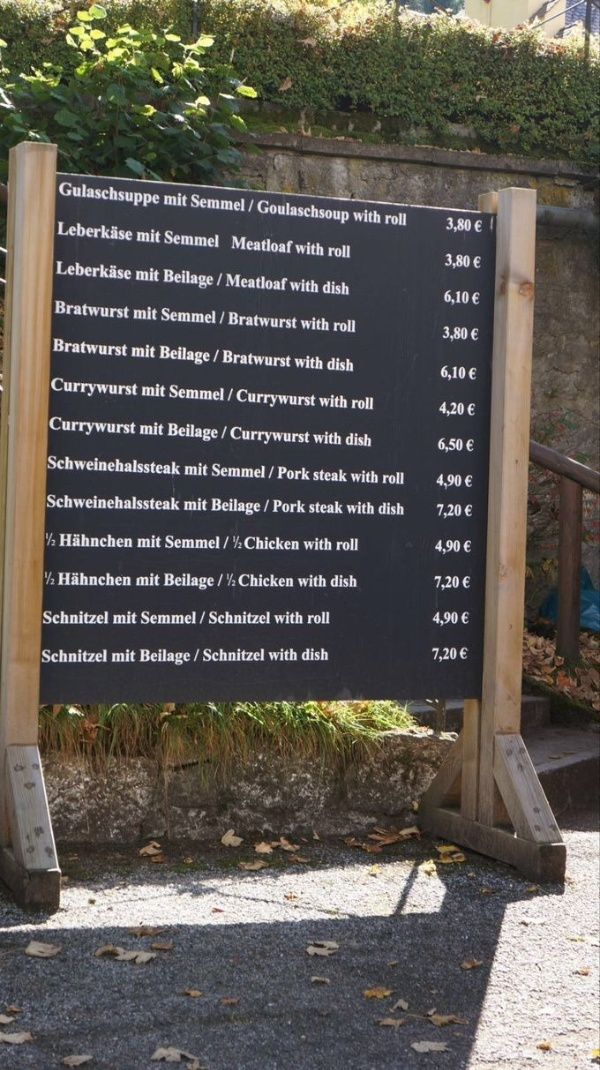text: (65, 183, 80, 209), (81, 183, 96, 209), (97, 183, 112, 209), (113, 183, 128, 209), (129, 183, 144, 209), (145, 183, 160, 209), (257, 200, 272, 225), (273, 200, 288, 225), (289, 200, 304, 225), (305, 200, 320, 225), (321, 200, 336, 225), (49, 416, 64, 439), (65, 416, 80, 439), (81, 416, 96, 439), (97, 416, 112, 439), (113, 416, 128, 439), (65, 378, 80, 400), (81, 378, 96, 400), (97, 378, 112, 400), (113, 378, 128, 400), (241, 427, 256, 449), (257, 427, 272, 449), (273, 427, 288, 449), (289, 427, 304, 449), (241, 390, 256, 412), (257, 390, 272, 412), (273, 390, 288, 412), (289, 390, 304, 412), (49, 455, 64, 476), (65, 455, 80, 476), (81, 455, 96, 476), (97, 455, 112, 476), (113, 455, 128, 476), (129, 455, 144, 476), (145, 455, 160, 476), (161, 455, 176, 476), (161, 346, 176, 367), (177, 346, 192, 367), (193, 346, 208, 367), (177, 270, 192, 291), (193, 270, 208, 291), (113, 300, 129, 319), (273, 273, 289, 292), (433, 609, 448, 629), (65, 338, 80, 358), (81, 338, 96, 358), (97, 338, 112, 358), (113, 338, 128, 358), (241, 235, 256, 255), (257, 235, 272, 255), (273, 235, 288, 255), (65, 222, 80, 242), (81, 222, 96, 242), (97, 222, 112, 242), (113, 222, 128, 242), (337, 200, 349, 225), (65, 300, 80, 319), (81, 300, 96, 319), (97, 300, 112, 319), (177, 423, 192, 442), (193, 423, 208, 442), (241, 273, 256, 292), (257, 273, 272, 292), (449, 402, 465, 419), (449, 217, 464, 235), (177, 573, 192, 591), (193, 573, 208, 591), (225, 499, 240, 517), (241, 499, 256, 517), (241, 312, 256, 330), (257, 312, 272, 330), (273, 312, 288, 330), (65, 262, 80, 280), (81, 262, 96, 280), (97, 262, 112, 280), (113, 262, 128, 280), (449, 436, 463, 455), (226, 273, 240, 292), (52, 378, 64, 400), (449, 365, 464, 382), (449, 328, 464, 345), (449, 290, 464, 307), (145, 649, 160, 666), (161, 649, 176, 666), (177, 385, 192, 402), (193, 385, 208, 402), (209, 385, 224, 402), (177, 307, 192, 324), (193, 307, 208, 324), (225, 351, 240, 368), (241, 351, 256, 368), (257, 351, 272, 368), (273, 351, 288, 368), (145, 228, 160, 245), (177, 231, 192, 248), (193, 231, 208, 248), (193, 195, 208, 212), (209, 195, 224, 212), (225, 195, 240, 212), (164, 270, 176, 291), (305, 390, 316, 412), (436, 472, 448, 492), (449, 472, 461, 492), (449, 254, 464, 270), (49, 494, 64, 510), (65, 494, 80, 510), (81, 494, 96, 510), (97, 494, 112, 510), (113, 494, 128, 510), (129, 494, 144, 510), (145, 494, 160, 510), (161, 494, 176, 510), (193, 462, 208, 478), (289, 466, 304, 482), (305, 241, 320, 257), (162, 307, 176, 324), (433, 647, 448, 662), (273, 649, 288, 664), (209, 649, 224, 664), (225, 649, 240, 664), (241, 649, 256, 664), (49, 649, 64, 664), (65, 649, 80, 664), (81, 649, 96, 664), (65, 534, 80, 549), (81, 534, 96, 549), (97, 534, 112, 549), (113, 534, 128, 549), (113, 610, 128, 625), (177, 535, 192, 550), (193, 535, 208, 550), (257, 535, 272, 550), (273, 535, 288, 550), (305, 537, 320, 552), (225, 464, 240, 479), (241, 464, 256, 479), (305, 354, 320, 369), (145, 268, 160, 283), (466, 503, 480, 519), (435, 539, 448, 556), (177, 649, 190, 666), (53, 338, 64, 358), (164, 573, 176, 591), (212, 499, 224, 517), (466, 439, 480, 454), (466, 475, 480, 490), (305, 648, 320, 662), (113, 649, 128, 663), (49, 611, 64, 625), (65, 611, 80, 625), (81, 611, 96, 625), (145, 611, 160, 625), (161, 611, 176, 625), (177, 611, 192, 625), (145, 573, 160, 587), (241, 574, 256, 588), (257, 574, 272, 588), (273, 574, 288, 588), (225, 611, 240, 625), (241, 611, 256, 625), (385, 502, 400, 516), (321, 501, 336, 515), (273, 500, 288, 514), (289, 500, 304, 514), (145, 423, 160, 437), (145, 383, 160, 397), (385, 472, 400, 486), (353, 433, 368, 447), (321, 432, 336, 446), (337, 358, 352, 372), (337, 319, 352, 333), (305, 317, 320, 331), (386, 212, 400, 227), (437, 436, 448, 455), (435, 576, 448, 592), (231, 427, 240, 449), (229, 312, 240, 330), (210, 611, 224, 625), (257, 611, 271, 625), (274, 612, 288, 626), (289, 612, 303, 626), (290, 278, 304, 292), (305, 278, 319, 292), (337, 246, 351, 260), (65, 573, 80, 586), (81, 573, 96, 586), (97, 573, 112, 586), (113, 573, 128, 586), (305, 575, 320, 588), (337, 575, 352, 588), (145, 535, 160, 548), (337, 539, 352, 552), (353, 502, 368, 515), (193, 498, 208, 511), (211, 464, 224, 479), (321, 469, 336, 482), (353, 471, 368, 484), (353, 397, 368, 410), (321, 395, 336, 408), (353, 210, 368, 223), (449, 539, 460, 556), (467, 403, 480, 417), (227, 573, 240, 587), (145, 307, 158, 321), (449, 609, 458, 629), (436, 504, 448, 519), (449, 504, 461, 519), (196, 648, 208, 663), (231, 235, 240, 255), (129, 378, 137, 400), (165, 192, 176, 208), (177, 192, 188, 208), (55, 300, 64, 319), (167, 423, 176, 442), (209, 423, 218, 442), (166, 231, 176, 248), (209, 231, 219, 248), (323, 281, 336, 294), (369, 210, 382, 223), (97, 611, 109, 625), (132, 345, 144, 359), (469, 367, 480, 382), (97, 649, 108, 664), (209, 535, 220, 550), (245, 535, 256, 550), (289, 535, 300, 550), (321, 537, 332, 552), (289, 312, 298, 330), (129, 416, 136, 439), (449, 576, 459, 592), (278, 466, 288, 482), (294, 241, 304, 257), (308, 612, 320, 625), (337, 281, 349, 294), (145, 345, 156, 359), (439, 402, 448, 419), (166, 535, 176, 550), (230, 387, 240, 402), (294, 354, 304, 369), (337, 395, 348, 408), (310, 501, 320, 515), (134, 307, 144, 321), (289, 649, 298, 664), (337, 469, 347, 482), (184, 462, 192, 478), (465, 217, 472, 235), (471, 328, 480, 342), (321, 317, 330, 331), (57, 262, 64, 280), (449, 647, 457, 662), (129, 610, 137, 625), (257, 464, 265, 479), (136, 268, 144, 283), (58, 222, 64, 242), (441, 365, 448, 382), (209, 307, 216, 324), (137, 228, 144, 245), (321, 612, 330, 625), (369, 471, 378, 484), (473, 255, 480, 271), (321, 648, 329, 662), (136, 573, 144, 587), (233, 534, 240, 550), (216, 350, 224, 364), (328, 358, 336, 372), (248, 200, 256, 214), (473, 292, 480, 307), (465, 539, 472, 554), (257, 649, 264, 664), (49, 532, 56, 547), (209, 270, 214, 291), (60, 183, 64, 209), (170, 385, 176, 402), (129, 649, 136, 663), (313, 432, 320, 446), (217, 273, 224, 287), (329, 246, 336, 260), (465, 254, 471, 270), (49, 570, 55, 586), (297, 575, 304, 588), (185, 498, 192, 511), (42, 649, 48, 664), (209, 573, 214, 591), (305, 427, 309, 449), (443, 328, 448, 345), (465, 290, 470, 307), (241, 195, 246, 212), (202, 610, 208, 624), (337, 501, 343, 515), (177, 455, 181, 476), (346, 433, 352, 447), (305, 466, 310, 482), (289, 235, 293, 255), (129, 222, 133, 242), (465, 576, 471, 589), (138, 535, 144, 548), (346, 502, 352, 515), (369, 502, 375, 515), (314, 469, 320, 482), (369, 397, 375, 410), (475, 219, 480, 234), (203, 649, 208, 664), (401, 212, 406, 227), (266, 500, 272, 512), (257, 499, 261, 517), (465, 611, 470, 625), (289, 574, 294, 588), (225, 536, 230, 550), (379, 502, 384, 516), (161, 383, 166, 397), (337, 432, 342, 446), (444, 290, 448, 307), (140, 649, 144, 666), (237, 390, 240, 412), (59, 573, 64, 586), (321, 575, 326, 588), (331, 575, 336, 588), (353, 575, 358, 588), (353, 539, 358, 552), (268, 649, 272, 664), (60, 534, 64, 549), (129, 534, 133, 549), (44, 611, 48, 625), (220, 573, 224, 587), (401, 502, 405, 516), (140, 423, 144, 437), (401, 472, 405, 486), (129, 262, 132, 280), (460, 646, 464, 659), (465, 646, 469, 659), (465, 328, 468, 345), (289, 351, 292, 368), (177, 494, 180, 510), (141, 611, 144, 625), (193, 611, 196, 625), (161, 423, 164, 437), (369, 433, 372, 447), (209, 346, 211, 367), (353, 319, 356, 333), (301, 317, 304, 331), (446, 254, 448, 270), (46, 570, 48, 586), (321, 241, 323, 257), (46, 532, 48, 547), (321, 354, 323, 369), (462, 611, 464, 625), (302, 648, 304, 662), (273, 466, 275, 480), (334, 319, 336, 333), (129, 573, 131, 586), (225, 427, 227, 440), (350, 471, 352, 484), (222, 312, 224, 324), (447, 217, 448, 235), (465, 365, 466, 382), (161, 228, 162, 245), (241, 534, 242, 550), (47, 494, 48, 510), (481, 219, 482, 234), (303, 537, 304, 552), (239, 574, 240, 588), (305, 500, 306, 514), (143, 383, 144, 397), (271, 466, 272, 480), (383, 472, 384, 486), (353, 358, 354, 372), (463, 576, 464, 589), (161, 535, 162, 548), (319, 395, 320, 408), (225, 312, 226, 324)
